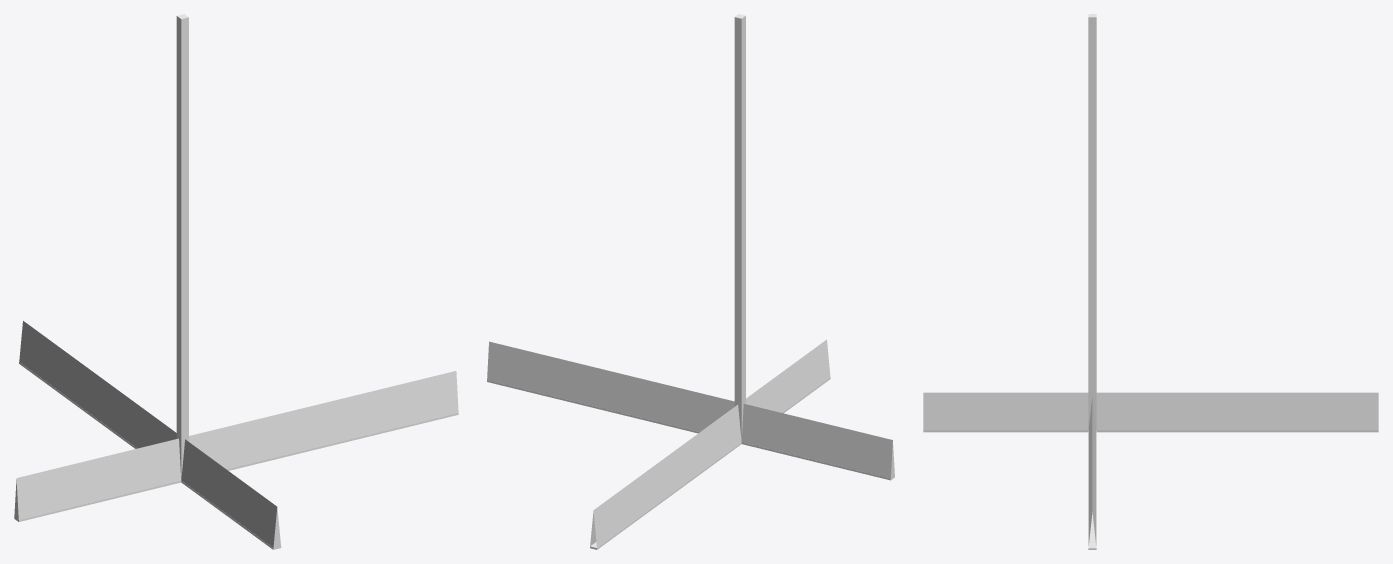
File: path_TL.fbx
The picture shows the model from 3 angles, left to right: view 1: azimuth 30°, elevation 25°; view 2: azimuth 150°, elevation 25°; view 3: azimuth 270°, elevation 25°; orthographic projection. The views are drawn at different scales.
Parts seen in each view (by area): view 1: right003, left003, forward003, up003, backwards003; view 2: right003, forward003, left003, up003, backwards003; view 3: forward003, backwards003, up003, right003.
Part boxes in pixels (box(x1,y1,x2,y2)): right003: box(189, 371, 458, 470); left003: box(14, 438, 181, 521); forward003: box(19, 321, 176, 448); up003: box(176, 14, 188, 478); backwards003: box(181, 439, 281, 549); right003: box(487, 341, 734, 433); forward003: box(590, 405, 741, 549); left003: box(741, 404, 894, 480); up003: box(734, 14, 745, 440); backwards003: box(746, 339, 830, 413); forward003: box(1096, 392, 1378, 432); backwards003: box(923, 392, 1088, 432); up003: box(1088, 14, 1096, 429); right003: box(1088, 394, 1096, 549).
Bounding box in the file's own units: 19.95 × 20.08 × 19.98.
1 material, 1 textured.
